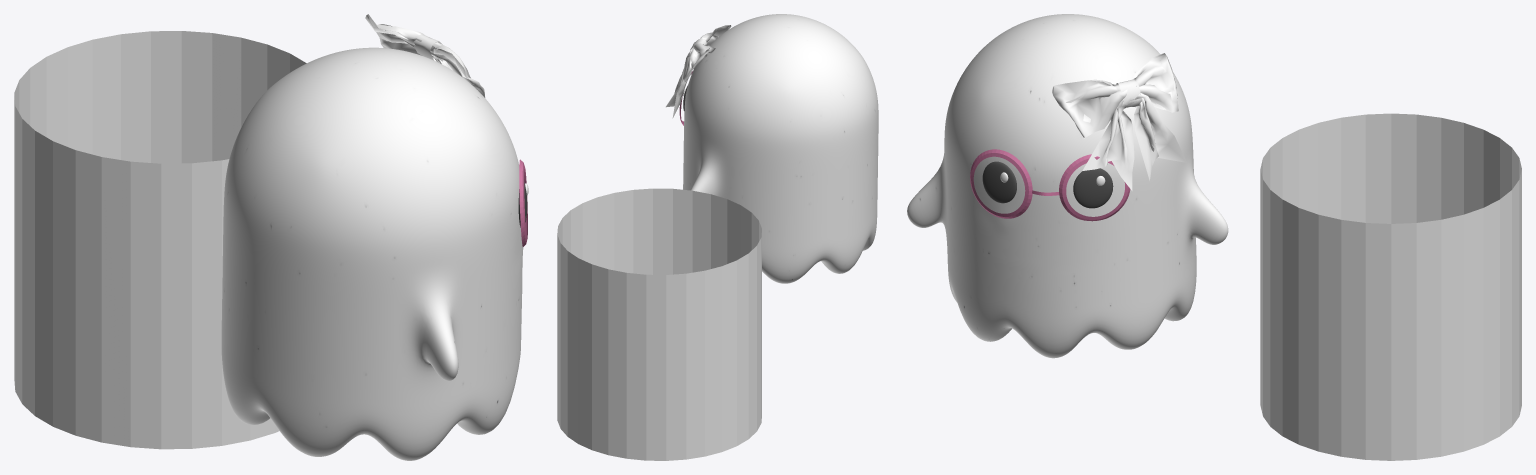
Rendered from ghost.glb.
3 views of the same model, side by side, from view 1: azimuth 30°, elevation 25°; view 2: azimuth 150°, elevation 25°; view 3: azimuth 270°, elevation 25° (orthographic). The views are drawn at different scales.
Visible parts, largest first — view 1: Body, Cylinder, Bow, Torus; view 2: Cylinder, Body, Bow; view 3: Cylinder, Body, Bow, Object, Torus, Torus.001.
Part boxes in pixels (<box>): Body: <box>221,47,523,460</box>; Cylinder: <box>14,31,306,449</box>; Bow: <box>365,14,485,97</box>; Torus: <box>519,159,527,246</box>; Cylinder: <box>557,188,761,460</box>; Body: <box>683,14,878,283</box>; Bow: <box>666,25,731,118</box>; Cylinder: <box>1260,113,1521,460</box>; Body: <box>907,14,1228,358</box>; Bow: <box>1052,53,1187,190</box>; Object: <box>982,161,1113,208</box>; Torus: <box>970,149,1032,218</box>; Torus.001: <box>1059,154,1130,221</box>.
Bounding box in the file's own units: 2.06 × 3.24 × 4.7.
Materials: 7 (1 with a texture image).
